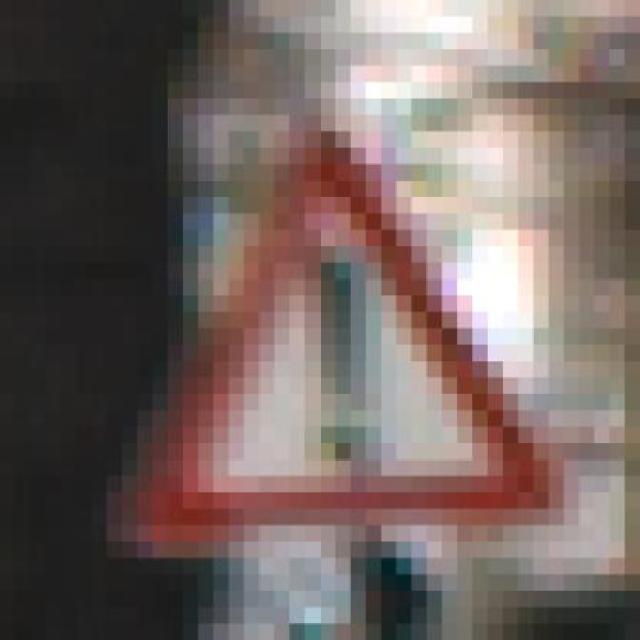Attention Please-: (107, 115, 595, 542)
